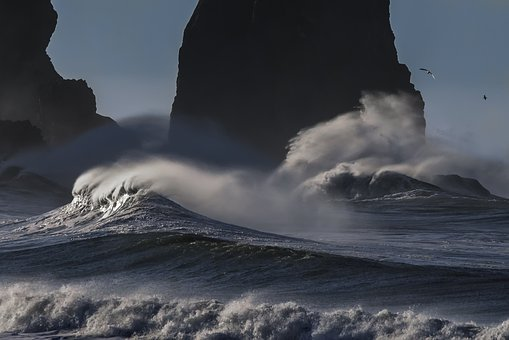sea: (14, 137, 509, 339)
